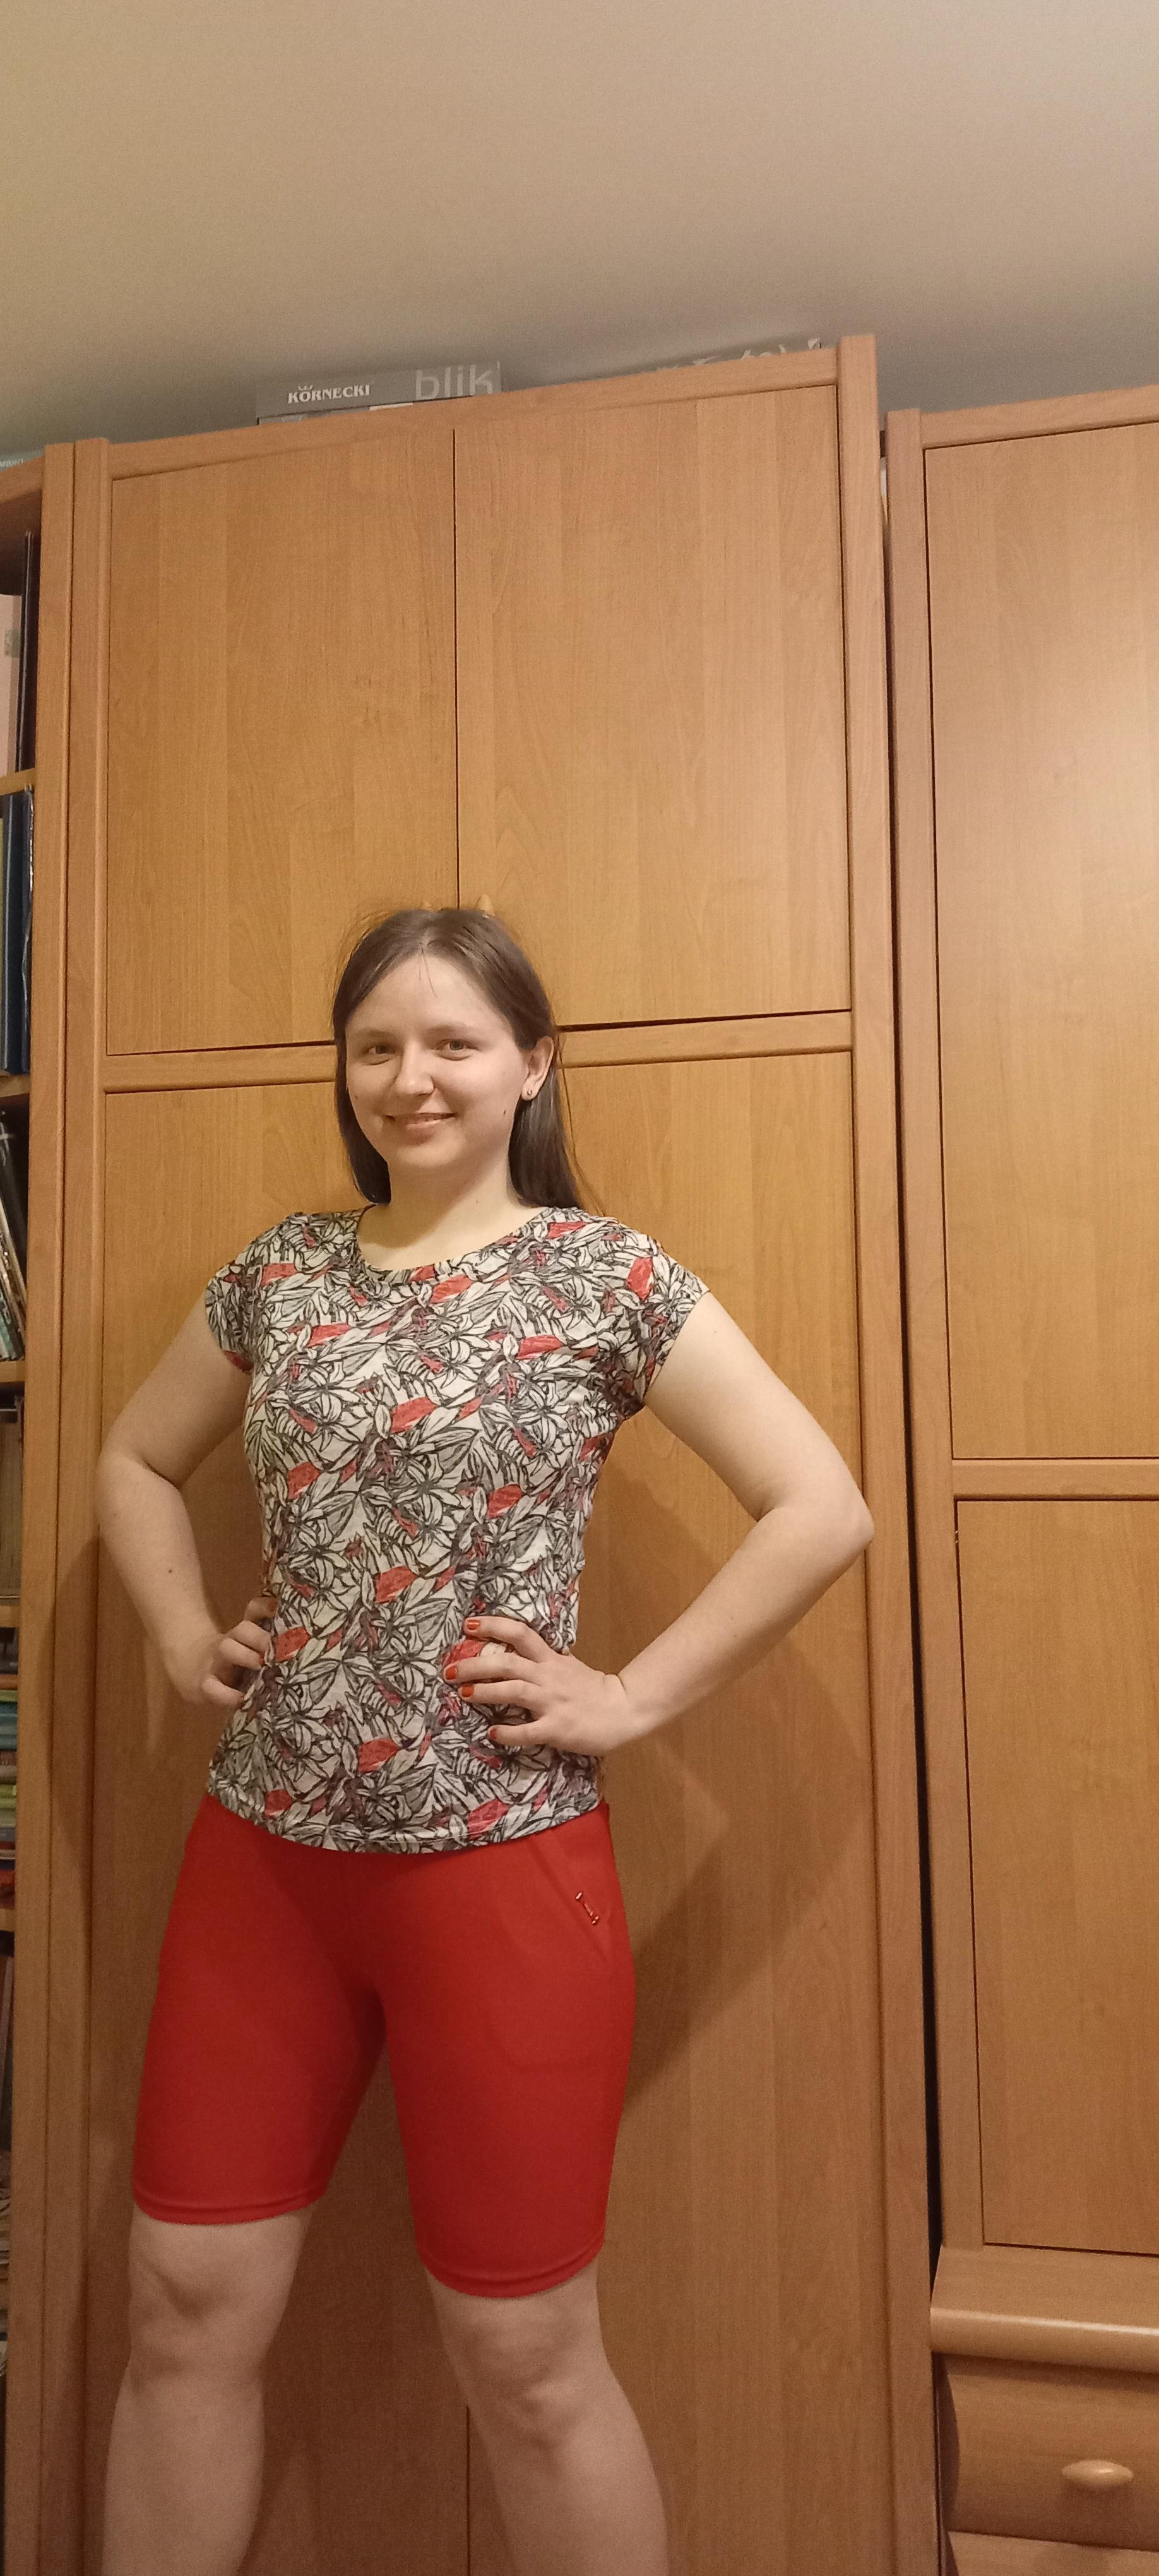Tshirt: (199, 1201, 711, 1858)
short: (133, 1792, 639, 2300)
